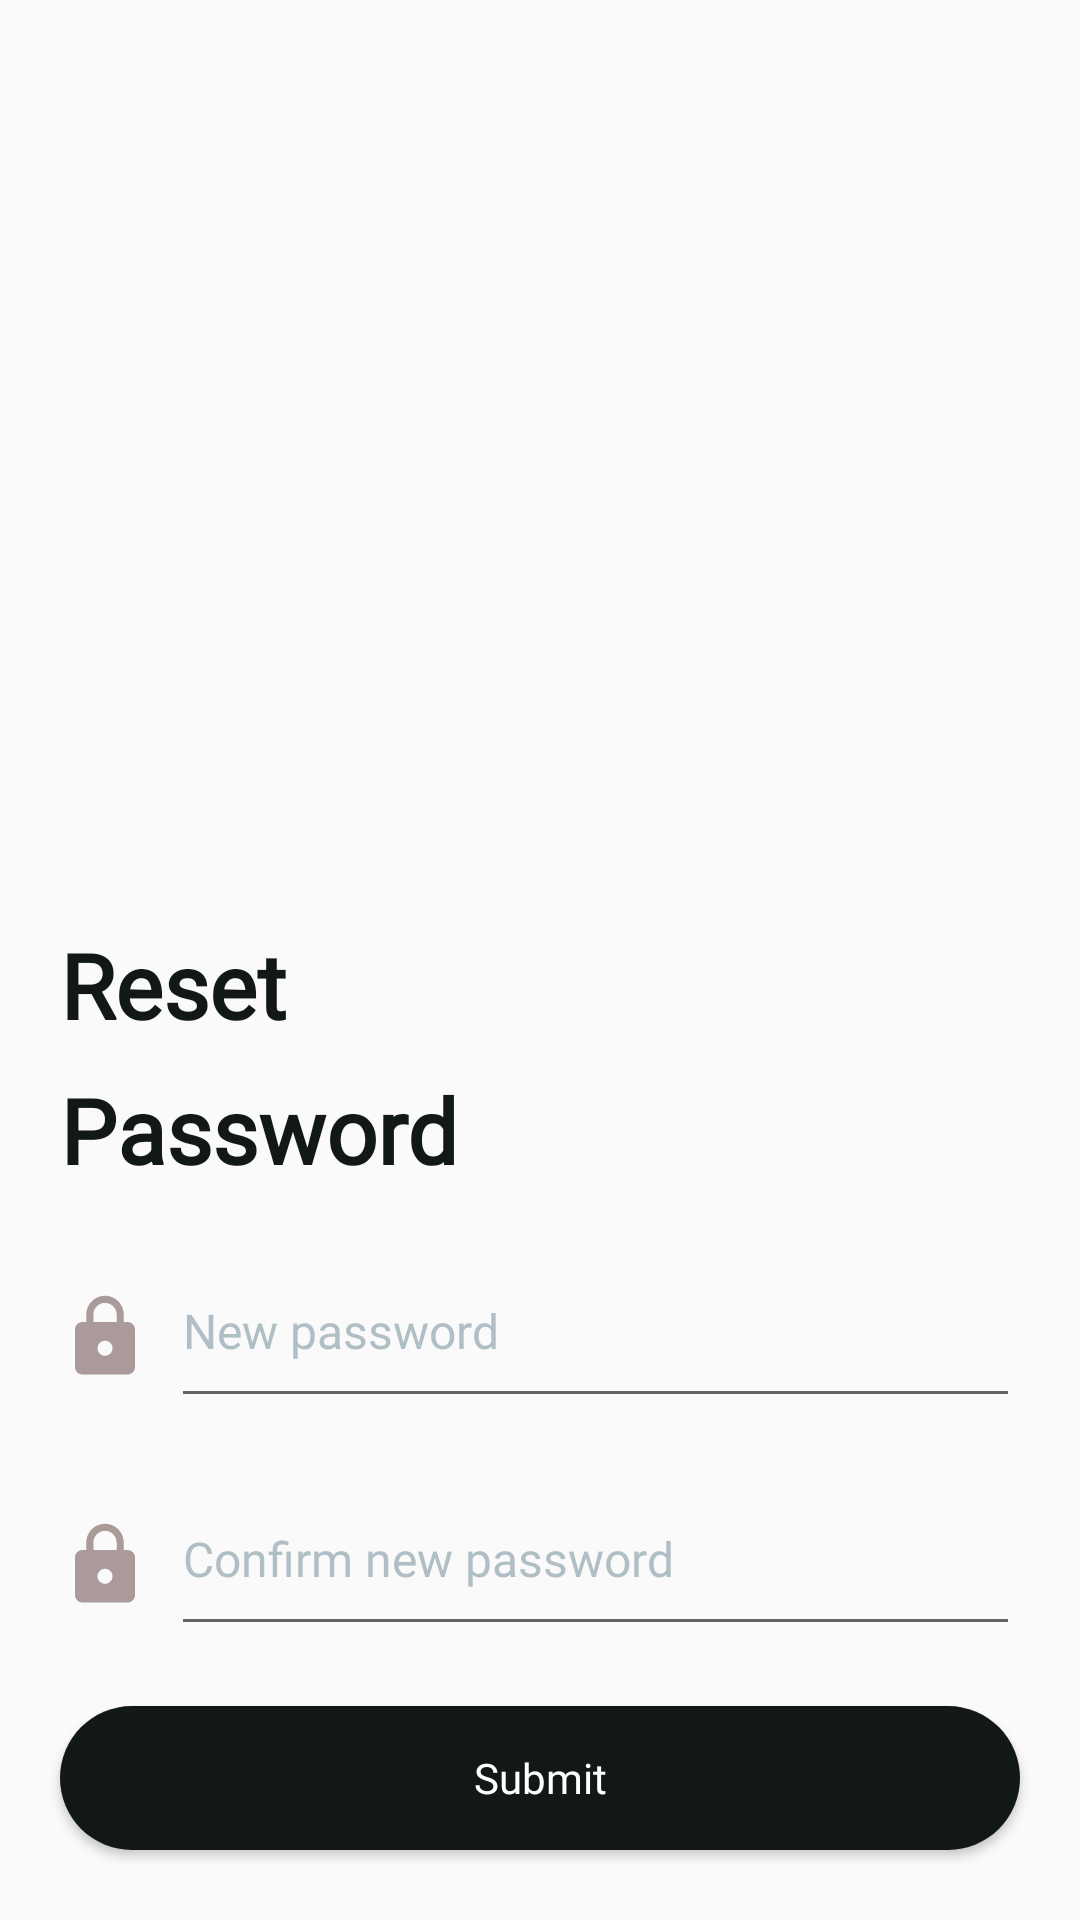

Named icons in this screenshot (1080×1920) and their centers, (x=x, y=y):
lock item: (x=105, y=1335), (x=105, y=1563)
